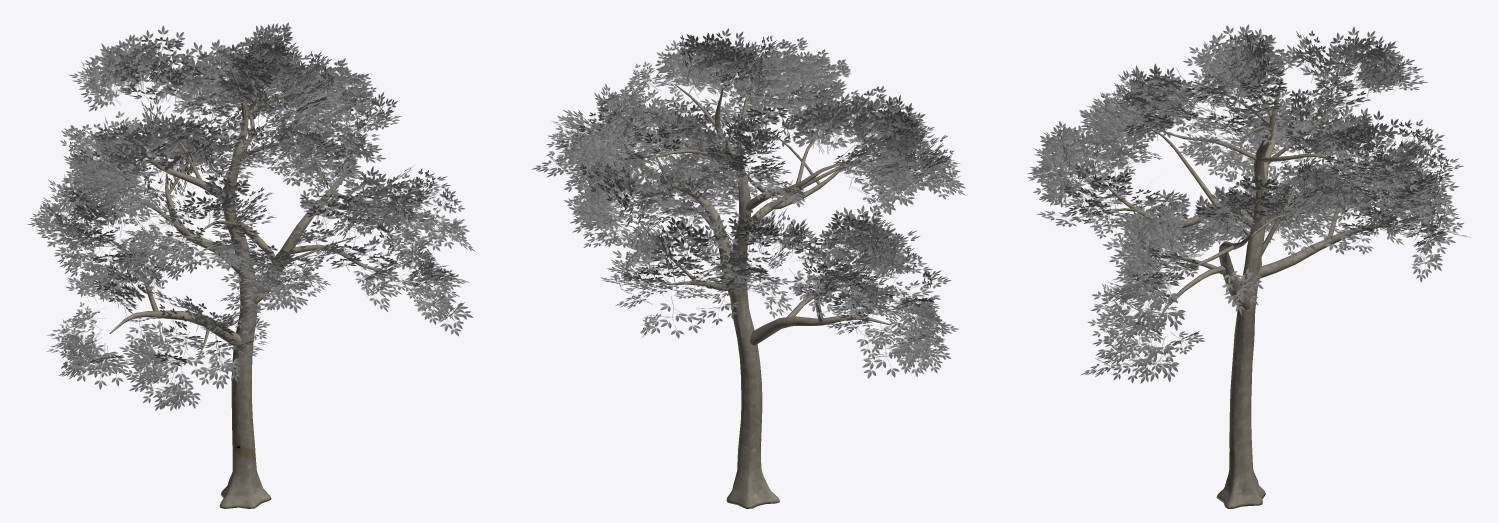
The model's file is RT_Mature_A_LOD3.glb.
The picture shows the model from 3 angles, left to right: view 1: azimuth 30°, elevation 25°; view 2: azimuth 150°, elevation 25°; view 3: azimuth 270°, elevation 25°; orthographic projection.
Parts seen in each view (by area): view 1: RT_Mature_A_LOD3_LeafCards, RT_Mature_A_LOD3_Body; view 2: RT_Mature_A_LOD3_LeafCards, RT_Mature_A_LOD3_Body; view 3: RT_Mature_A_LOD3_LeafCards, RT_Mature_A_LOD3_Body.
Boxes of the visible parts, left/top/right/bottom form: RT_Mature_A_LOD3_LeafCards: left=27, top=22, right=475, bottom=410; RT_Mature_A_LOD3_Body: left=94, top=67, right=397, bottom=508; RT_Mature_A_LOD3_LeafCards: left=531, top=28, right=965, bottom=378; RT_Mature_A_LOD3_Body: left=624, top=84, right=891, bottom=508; RT_Mature_A_LOD3_LeafCards: left=1027, top=24, right=1469, bottom=383; RT_Mature_A_LOD3_Body: left=1100, top=78, right=1402, bottom=508.
Bounding box in the file's own units: 12.49 × 14.08 × 12.74.
Materials: 2 (2 with a texture image).
